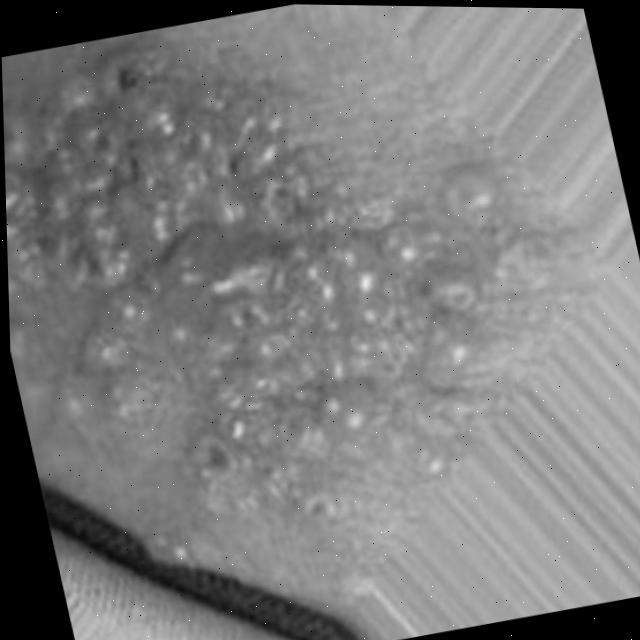Shingles: (0, 0, 570, 559)
